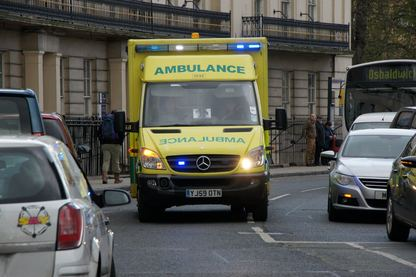ambulance: (113, 34, 289, 222)
car: (0, 134, 131, 277), (321, 127, 416, 218), (2, 111, 91, 159), (386, 131, 416, 241), (0, 89, 46, 134), (348, 101, 416, 128), (392, 107, 416, 129)
